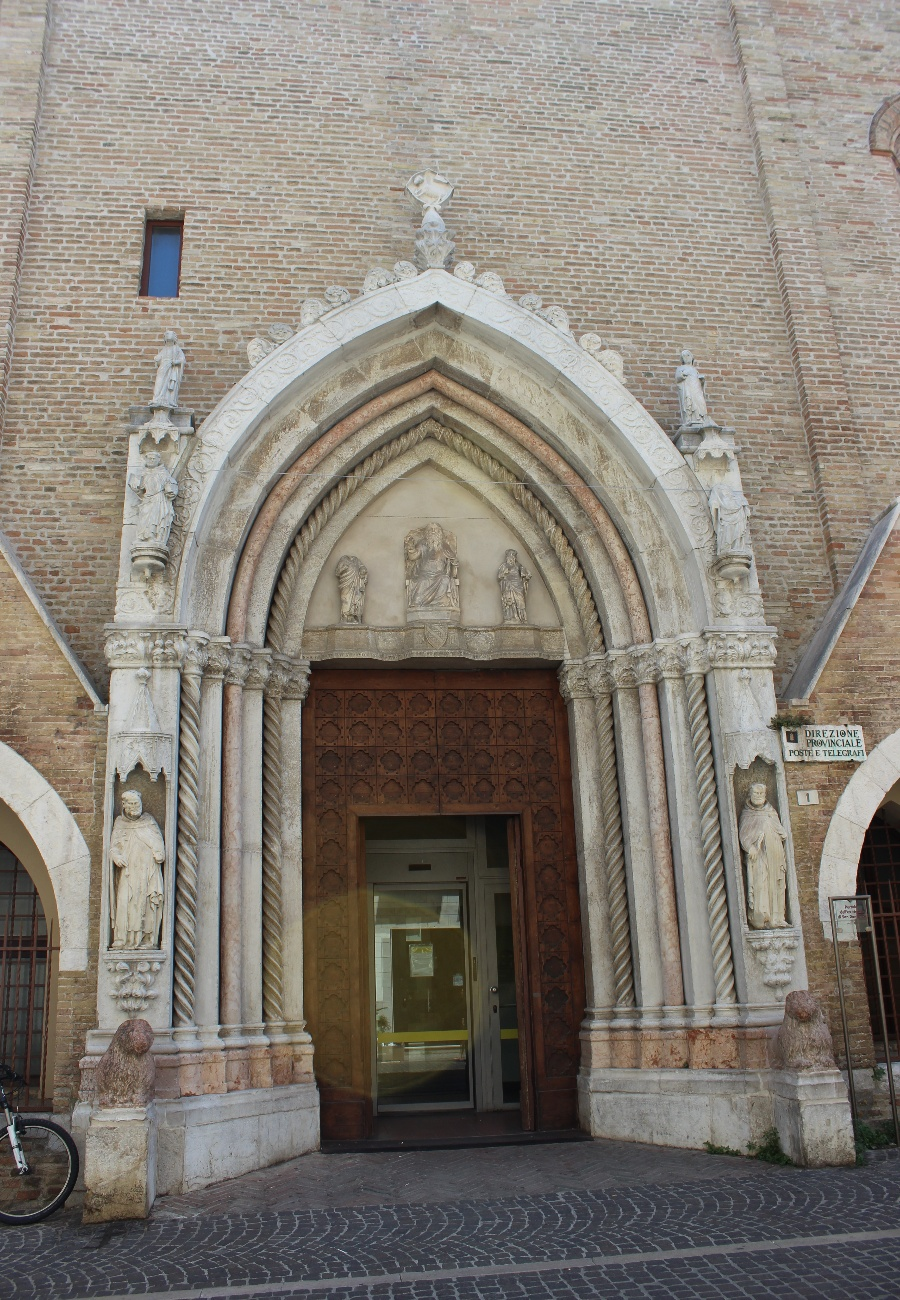Portale San Domenico: (69, 176, 861, 1227)
